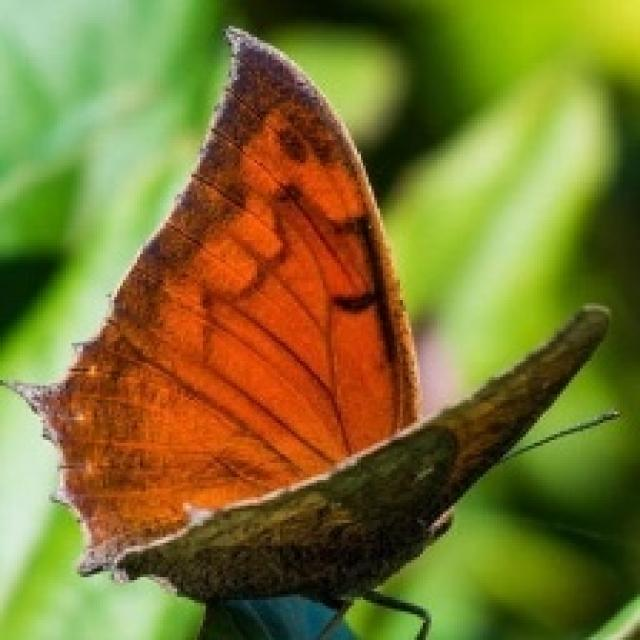butterfly: (0, 23, 620, 637)
